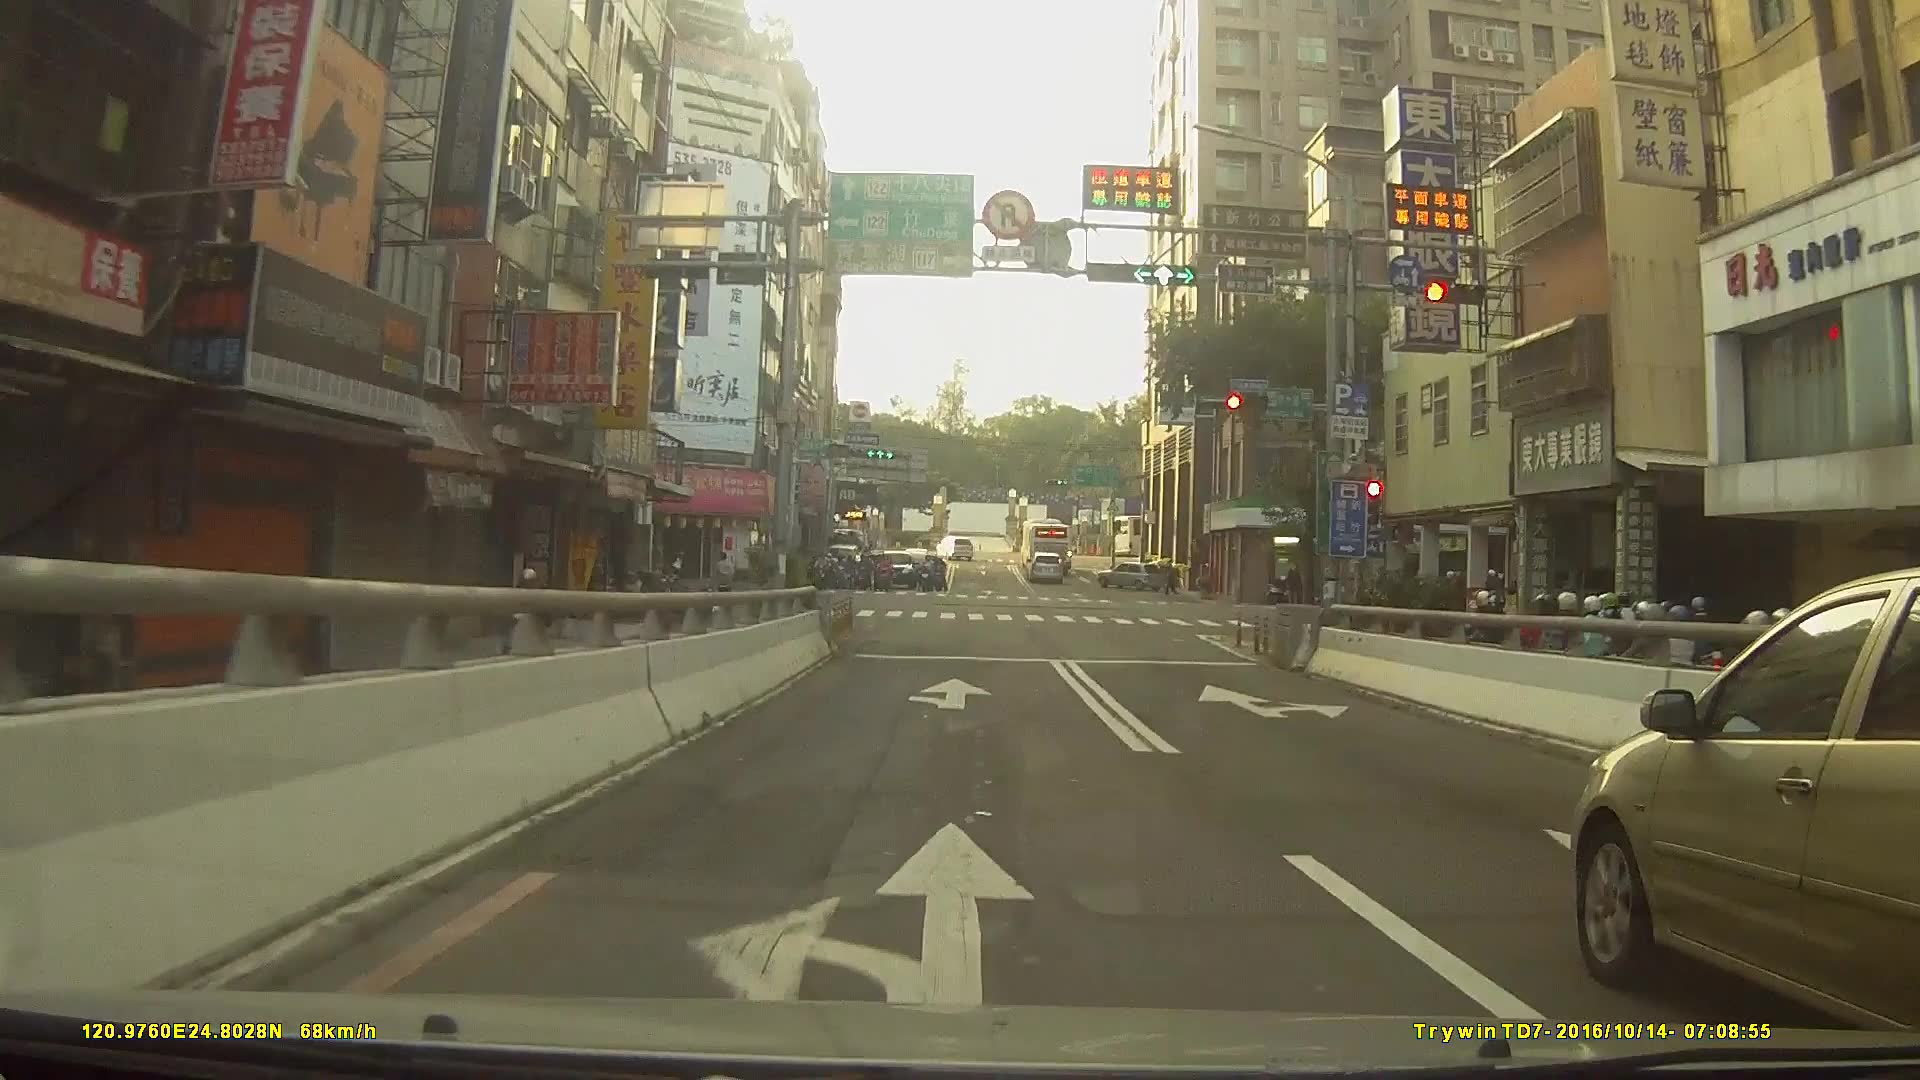pedestrian: (1283, 567, 1305, 608)
rider: (509, 569, 556, 677)
vehicle: (1573, 564, 1920, 1062), (1097, 558, 1172, 592), (1025, 519, 1072, 567), (875, 550, 918, 587), (1029, 549, 1067, 583), (932, 532, 974, 561)
